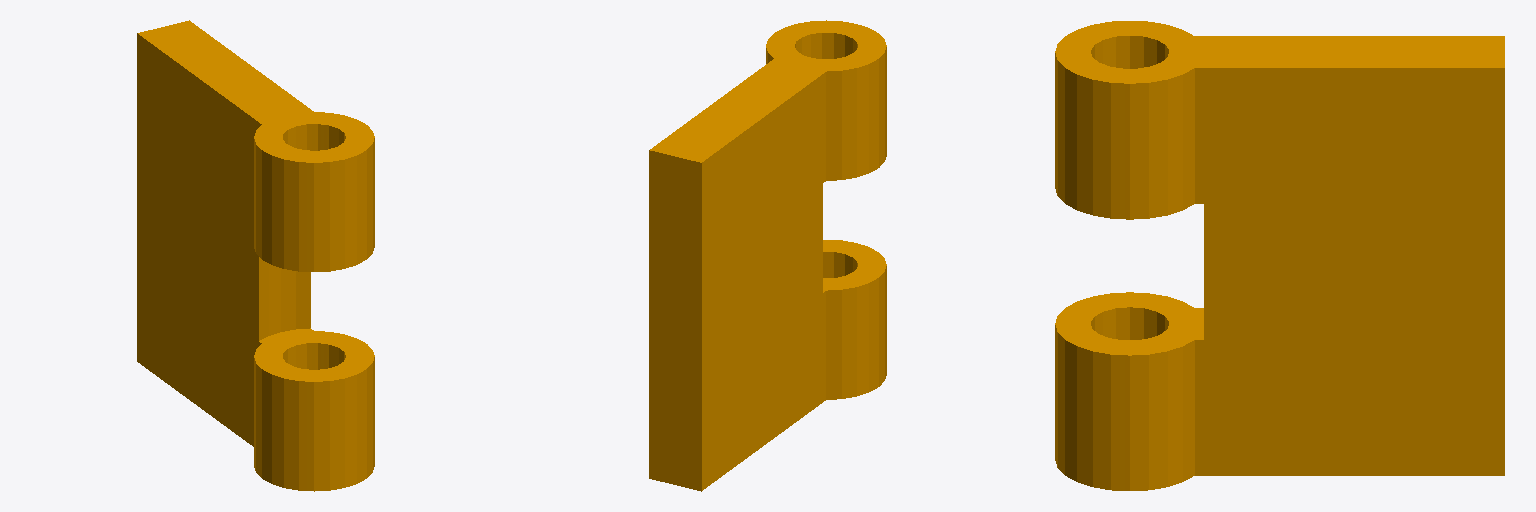
The robot description file, URDF, robot "01132_socket":
<?xml version="1.0"?>
<robot name="01132_socket">
	<link name="01132_socket">
		<visual>
			<geometry>
				<mesh filename="../mesh/01132/asset_socket.obj"/>
			</geometry>
		</visual>
		<collision>
			<geometry>
				<mesh filename="../mesh/01132/asset_socket.obj"/>
			</geometry>
			<sdf resolution="256"/>
		</collision>
	</link>
</robot>

--- Render facts (derived) ---
The picture shows the robot from 3 angles, left to right: view 1: azimuth 30°, elevation 25°; view 2: azimuth 150°, elevation 25°; view 3: azimuth 270°, elevation 25°; orthographic projection.
Robot: 01132_socket — 1 links, 0 joints (none); root link 01132_socket; default pose: all joints at 0.
Links seen in each view (by area): view 1: 01132_socket; view 2: 01132_socket; view 3: 01132_socket.
Link boxes in pixels (x1=…): 01132_socket: x1=137, y1=20, x2=374, y2=491; 01132_socket: x1=649, y1=20, x2=886, y2=491; 01132_socket: x1=1055, y1=21, x2=1504, y2=490.
Size in the robot's own frame: 0.0189 by 0.0568 by 0.0568 metres.
1 mesh visuals loaded from 1 distinct referenced files (1 OBJ).